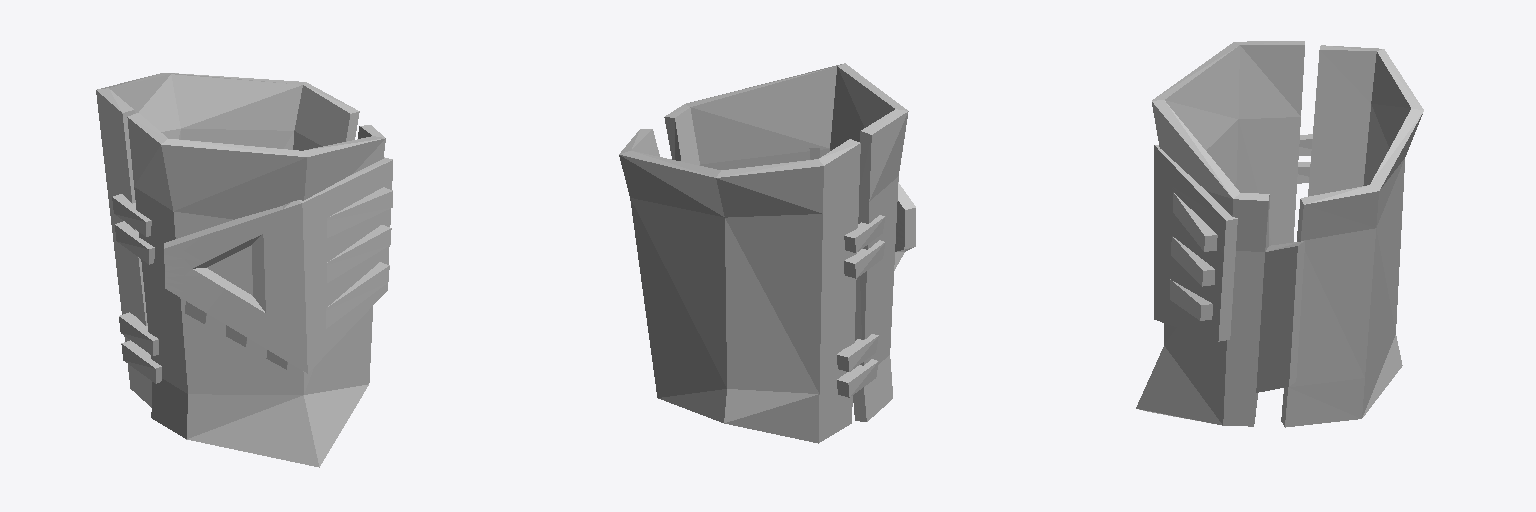
The model's file is thigh armor right.obj.
The picture shows the model from 3 angles: view 1: azimuth 30°, elevation 25°; view 2: azimuth 150°, elevation 25°; view 3: azimuth 270°, elevation 25°; orthographic projection.
Visible parts, largest first — view 1: Circle.013; view 2: Circle.013; view 3: Circle.013.
Part boxes in pixels (x1,y1,x2,y2): Circle.013: (96, 73, 392, 467); Circle.013: (619, 63, 915, 443); Circle.013: (1136, 41, 1423, 427).
Size of the model in its own units: 0.3792 by 0.4817 by 0.3939.